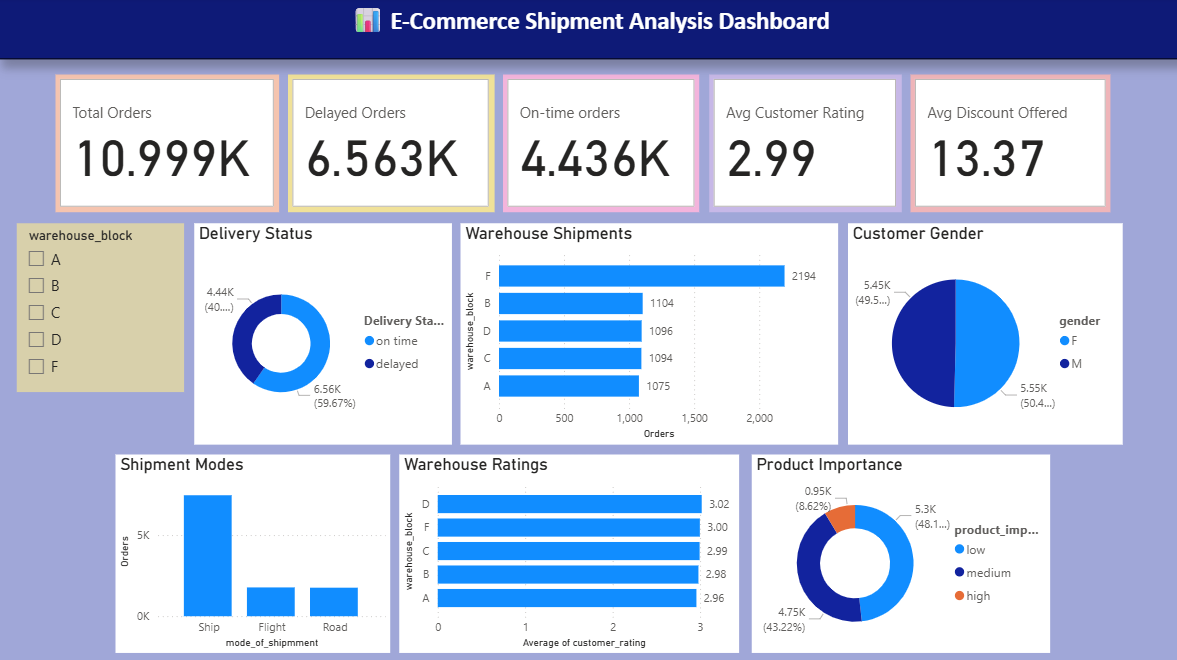

Layout of this report page (visuals, bound fields, positions):
{"tool":"powerbi","page":{"name":"Page 1","canvas":[1280,720],"ordinal":0},"visuals":[{"type":"cardVisual","fields":{"Data":["CountNonNull(ecommerce shipping_analysis.id)"]},"box":[62.1,83.7,241.7,148.6],"z":0},{"type":"cardVisual","fields":{"Data":["ecommerce shipping_analysis.Avg Rating"]},"box":[768.4,83.7,208,148.6],"z":1000},{"type":"cardVisual","fields":{"Data":["ecommerce shipping_analysis.Avg Discount Offered"]},"box":[985.9,83.7,216.1,148.6],"z":2000},{"type":"donutChart","title":"Delivery Status","fields":{"Y":["CountNonNull(ecommerce shipping_analysis.id)"],"Category":["ecommerce shipping_analysis.Delivery Status"]},"box":[212,244.4,278.2,239],"z":3000},{"type":"clusteredBarChart","title":"Warehouse Shipments","fields":{"Y":["CountNonNull(ecommerce shipping_analysis.id)"],"Category":["ecommerce shipping_analysis.warehouse_block"]},"box":[499.7,244.4,407.9,239],"z":4000},{"type":"clusteredColumnChart","title":"Shipment Modes","fields":{"Category":["ecommerce shipping_analysis.mode_of_shipmment"],"Y":["CountNonNull(ecommerce shipping_analysis.id)"]},"box":[126.9,494.3,297.1,214.7],"z":5000},{"type":"clusteredBarChart","title":"Warehouse Ratings","fields":{"Category":["ecommerce shipping_analysis.warehouse_block"],"Y":["Avg(ecommerce shipping_analysis.customer_rating)"]},"box":[433.5,494.3,367.3,214.7],"z":6000},{"type":"pieChart","title":"Customer Gender","fields":{"Category":["ecommerce shipping_analysis.gender"],"Y":["CountNonNull(ecommerce shipping_analysis.id)"]},"box":[918.3,244.4,297.1,239],"z":7000},{"type":"slicer","fields":{"Values":["ecommerce shipping_analysis.warehouse_block"]},"box":[20.3,244.4,181,182.3],"z":8000},{"type":"donutChart","title":"Product Importance","fields":{"Category":["ecommerce shipping_analysis.product_importance"],"Y":["CountNonNull(ecommerce shipping_analysis.id)"]},"box":[814.4,494.3,322.8,214.7],"z":9000},{"type":"cardVisual","fields":{"Data":["CountNonNull(ecommerce shipping_analysis.id)"]},"box":[313.3,83.7,222.8,148.6],"z":10000},{"type":"cardVisual","fields":{"Data":["CountNonNull(ecommerce shipping_analysis.id)"]},"box":[545.6,83.7,212,148.6],"z":11000},{"type":"textbox","box":[0,0,1280.3,67.5],"z":11001}]}

Visuals, with their boxes in screenshot pixels (x1, y1, x2, y2), scaled from the page's 1280x720 canvas onto the 1177x660 screenshot:
cardVisual - CountNonNull(ecommerce shipping_analysis.id): <bbox>57, 77, 279, 213</bbox>
cardVisual - ecommerce shipping_analysis.Avg Rating: <bbox>707, 77, 898, 213</bbox>
cardVisual - ecommerce shipping_analysis.Avg Discount Offered: <bbox>907, 77, 1105, 213</bbox>
"Delivery Status" donutChart: <bbox>195, 224, 451, 443</bbox>
"Warehouse Shipments" clusteredBarChart: <bbox>459, 224, 835, 443</bbox>
"Shipment Modes" clusteredColumnChart: <bbox>117, 453, 390, 650</bbox>
"Warehouse Ratings" clusteredBarChart: <bbox>399, 453, 736, 650</bbox>
"Customer Gender" pieChart: <bbox>844, 224, 1118, 443</bbox>
slicer - ecommerce shipping_analysis.warehouse_block: <bbox>19, 224, 185, 391</bbox>
"Product Importance" donutChart: <bbox>749, 453, 1046, 650</bbox>
cardVisual - CountNonNull(ecommerce shipping_analysis.id): <bbox>288, 77, 493, 213</bbox>
cardVisual - CountNonNull(ecommerce shipping_analysis.id): <bbox>502, 77, 697, 213</bbox>
textbox: <bbox>0, 0, 1176, 62</bbox>
